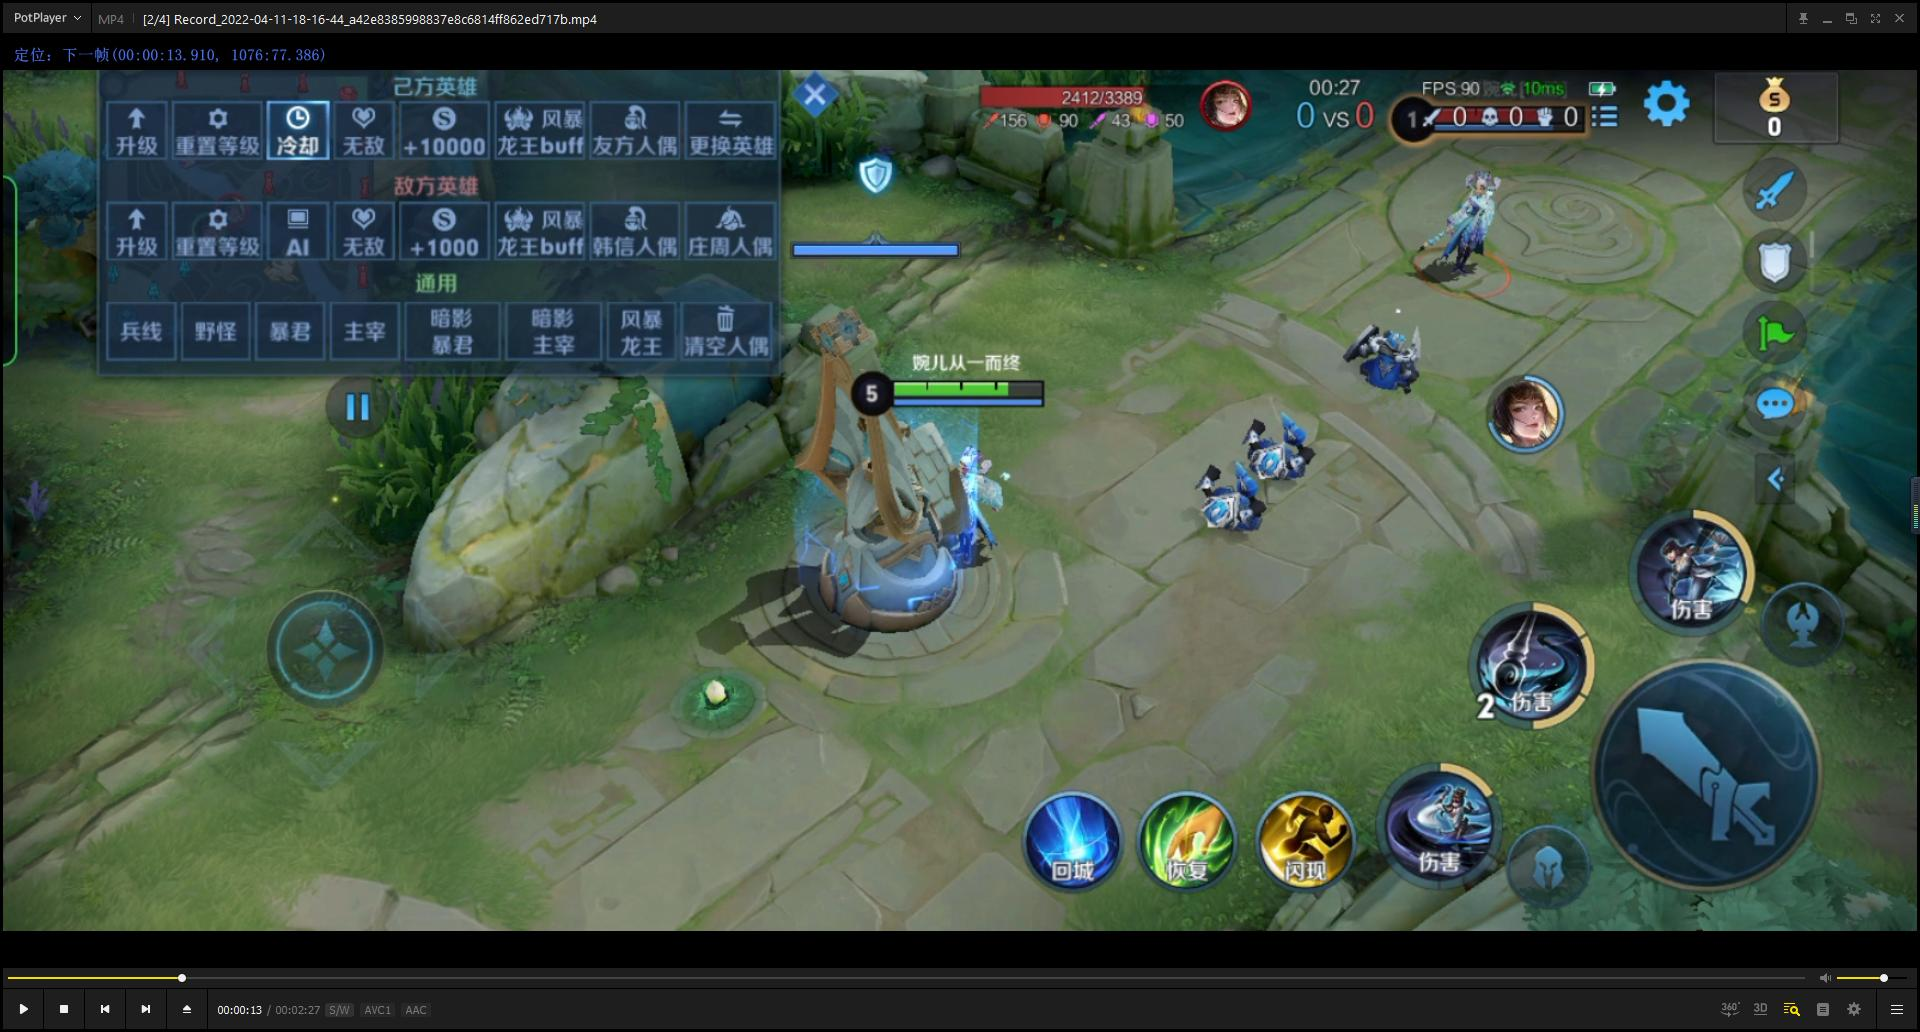Hero: (912, 423, 1019, 602), (1403, 166, 1518, 299)
Solider: (1335, 299, 1452, 407), (1166, 459, 1290, 560), (1220, 399, 1333, 489)
Tower: (754, 220, 976, 660)
